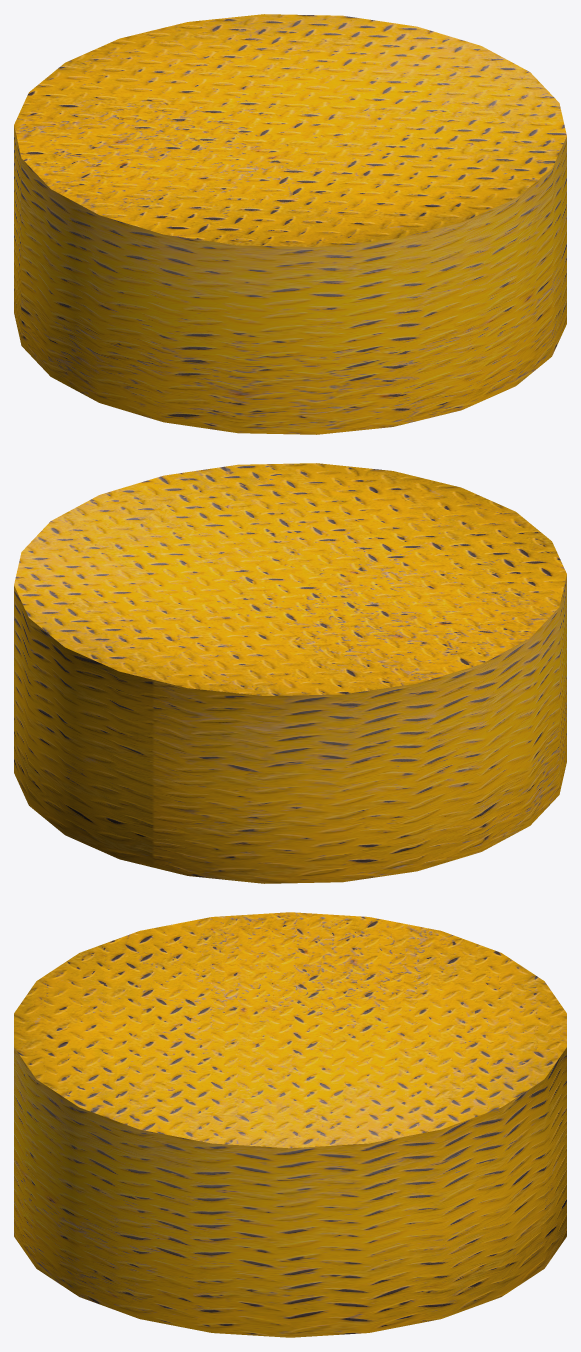
The model's file is ra_fixedBase.obj.
3 views of the same model, one above another, from view 1: azimuth 30°, elevation 25°; view 2: azimuth 150°, elevation 25°; view 3: azimuth 270°, elevation 25° (orthographic).
Parts seen in each view (by area): view 1: base; view 2: base; view 3: base.
Boxes of the visible parts, x1=… form: base: x1=14, y1=14, x2=566, y2=434; base: x1=14, y1=463, x2=566, y2=883; base: x1=14, y1=912, x2=566, y2=1337.
Bounding box in the file's own units: 35.53 × 13.29 × 35.16.
1 material, 1 textured.
